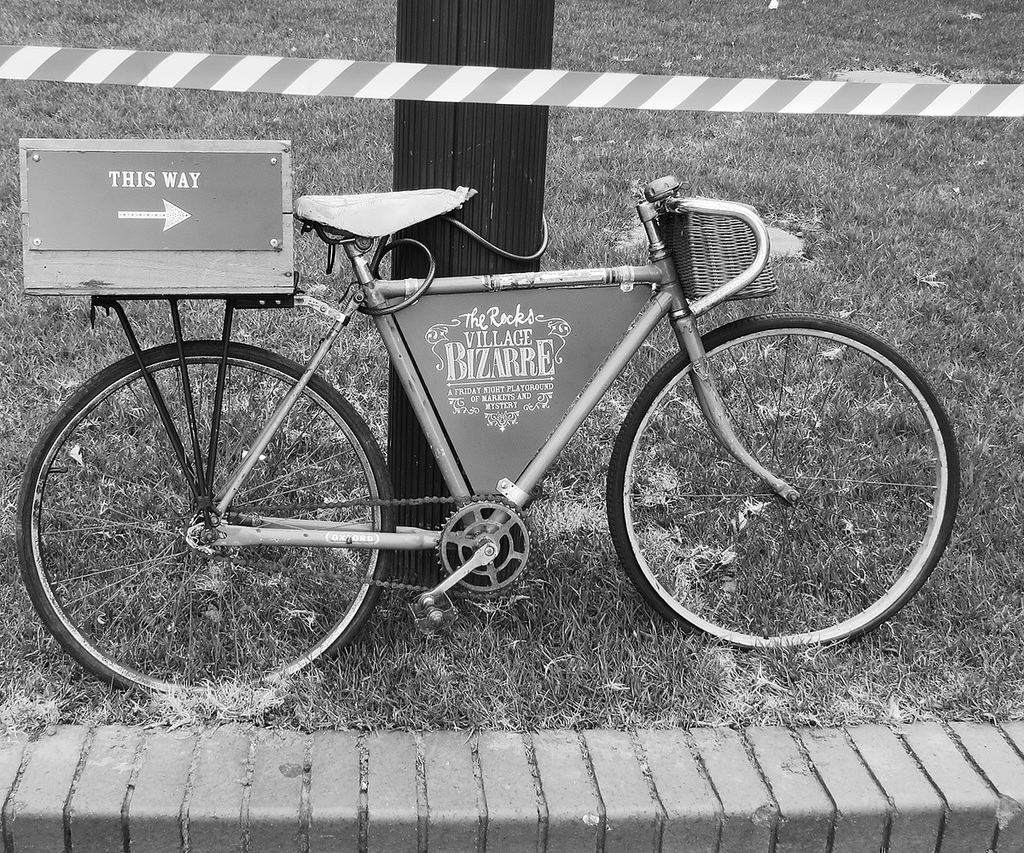Bike_toward: (30, 189, 959, 667)
